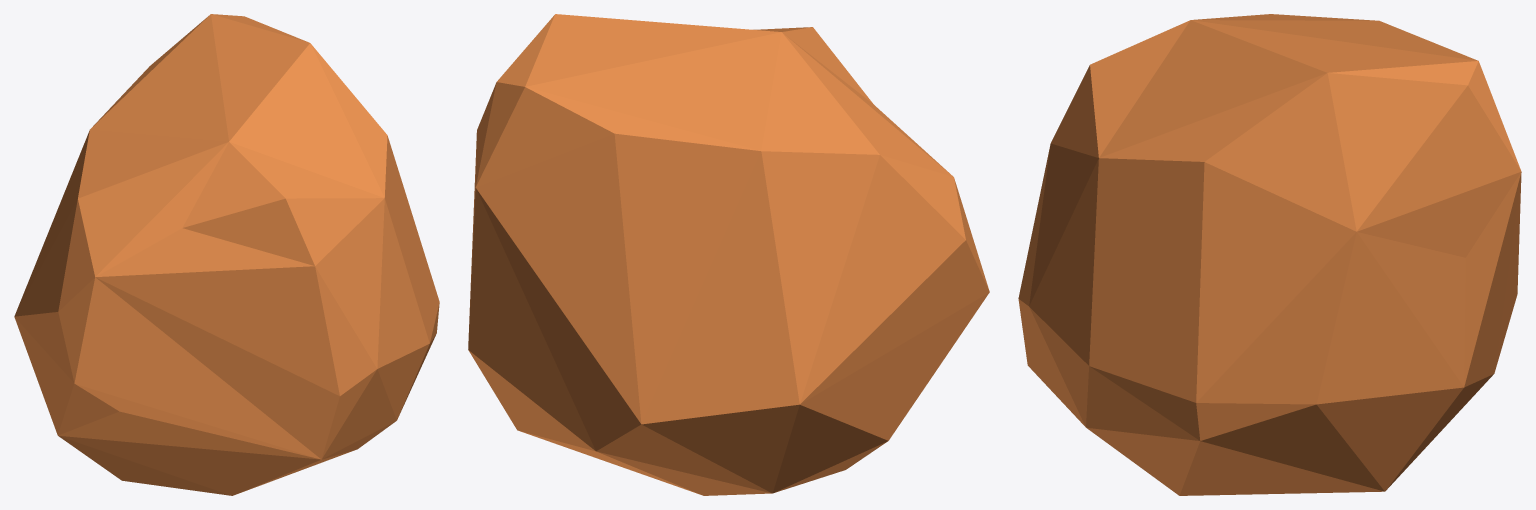
Rendered from Desert_Rock2 (1).fbx.
3 renders of one model, left to right at view 1: azimuth 30°, elevation 25°; view 2: azimuth 150°, elevation 25°; view 3: azimuth 270°, elevation 25°, orthographic. The views are drawn at different scales.
Visible parts, largest first — view 1: Sphere.004; view 2: Sphere.004; view 3: Sphere.004.
Boxes of the visible parts, left/top/right/bottom form: Sphere.004: left=14, top=14, right=439, bottom=495; Sphere.004: left=468, top=14, right=989, bottom=495; Sphere.004: left=1018, top=14, right=1521, bottom=495.
Bounding box in the file's own units: 158 × 147 × 149.
